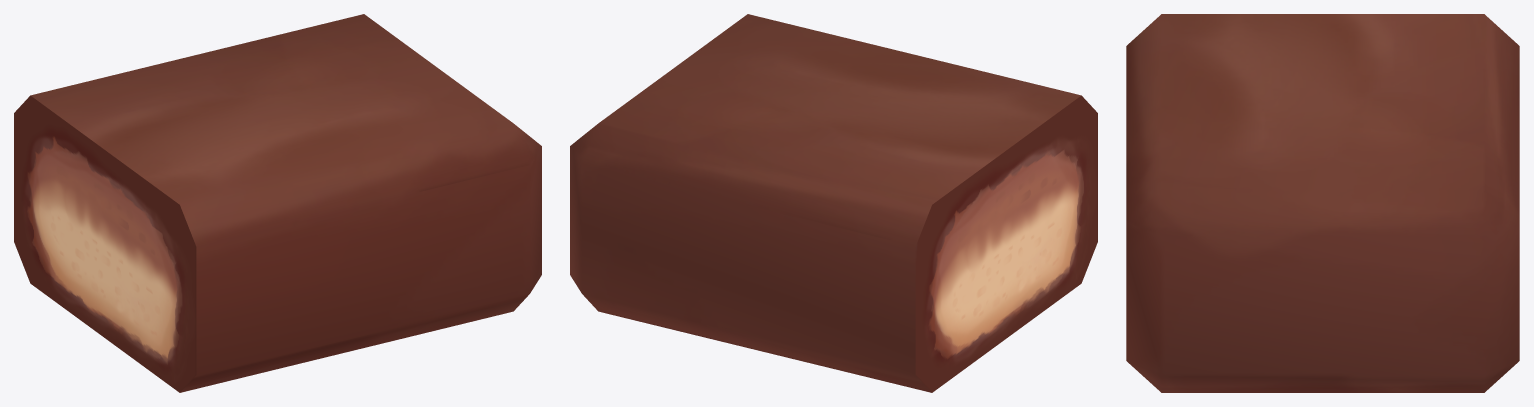
File: ChocoleteBarHalf.glb
3 renders of one model, left to right at view 1: azimuth 30°, elevation 25°; view 2: azimuth 150°, elevation 25°; view 3: azimuth 270°, elevation 25°, orthographic. The views are drawn at different scales.
Parts seen in each view (by area): view 1: Object_4.005; view 2: Object_4.005; view 3: Object_4.005.
Boxes of the visible parts, x1,y1,x2,y2 form: Object_4.005: (14, 14, 541, 392); Object_4.005: (570, 14, 1097, 392); Object_4.005: (1126, 14, 1519, 392).
Bounding box in the file's own units: 0.0917 × 0.0455 × 0.0799.
Materials: 1 (1 with a texture image).
